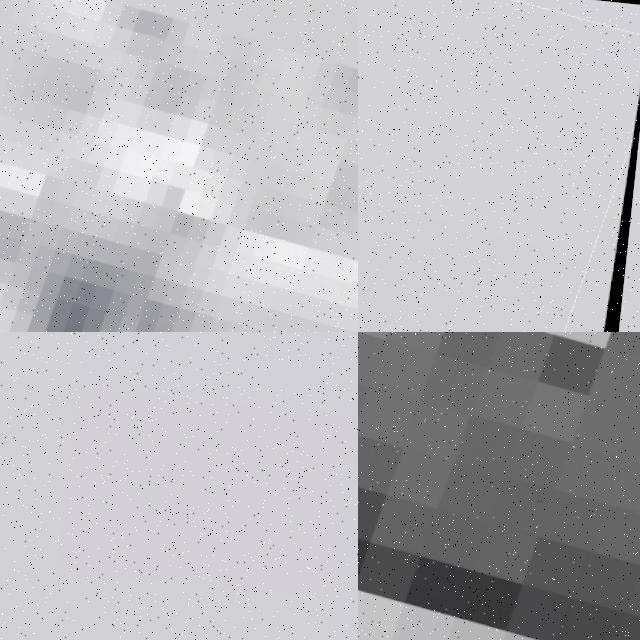0: (0, 0, 358, 332), (358, 0, 640, 332)
drone: (358, 332, 640, 640)
